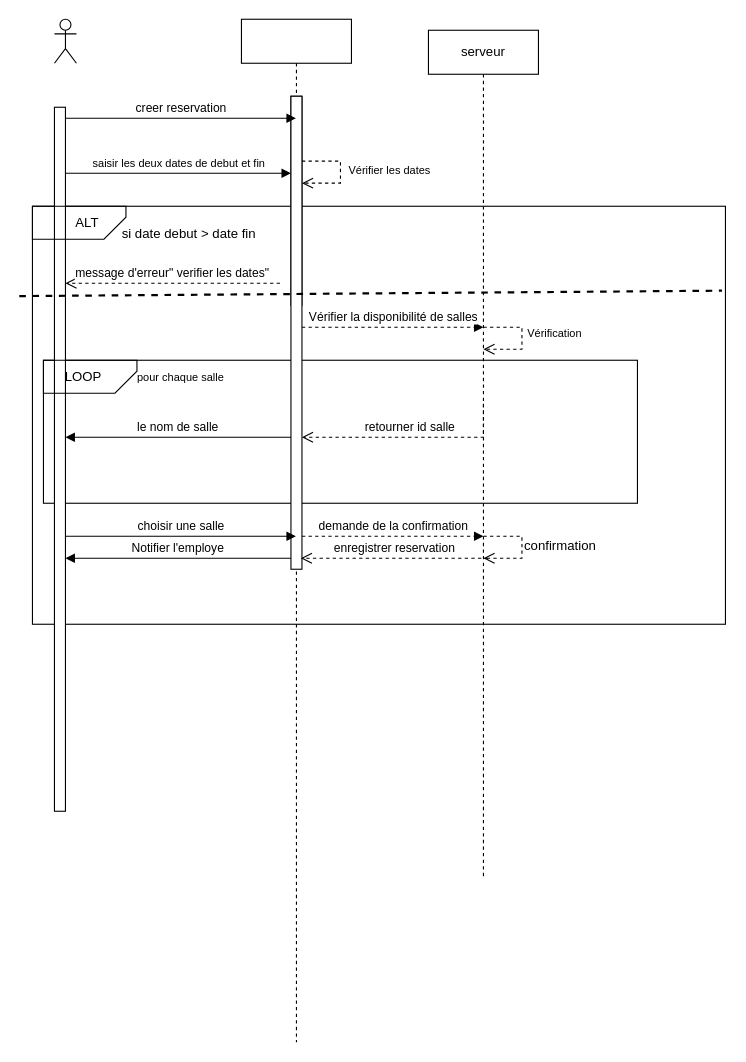
Some shapes in this 746 by 1062 pixel diagram are drawn without their labels. The centre of each missing label's shape, as x and y in pixels:
"Application web" goes at pixel 295 530.
"Employe" goes at pixel 64 40.
